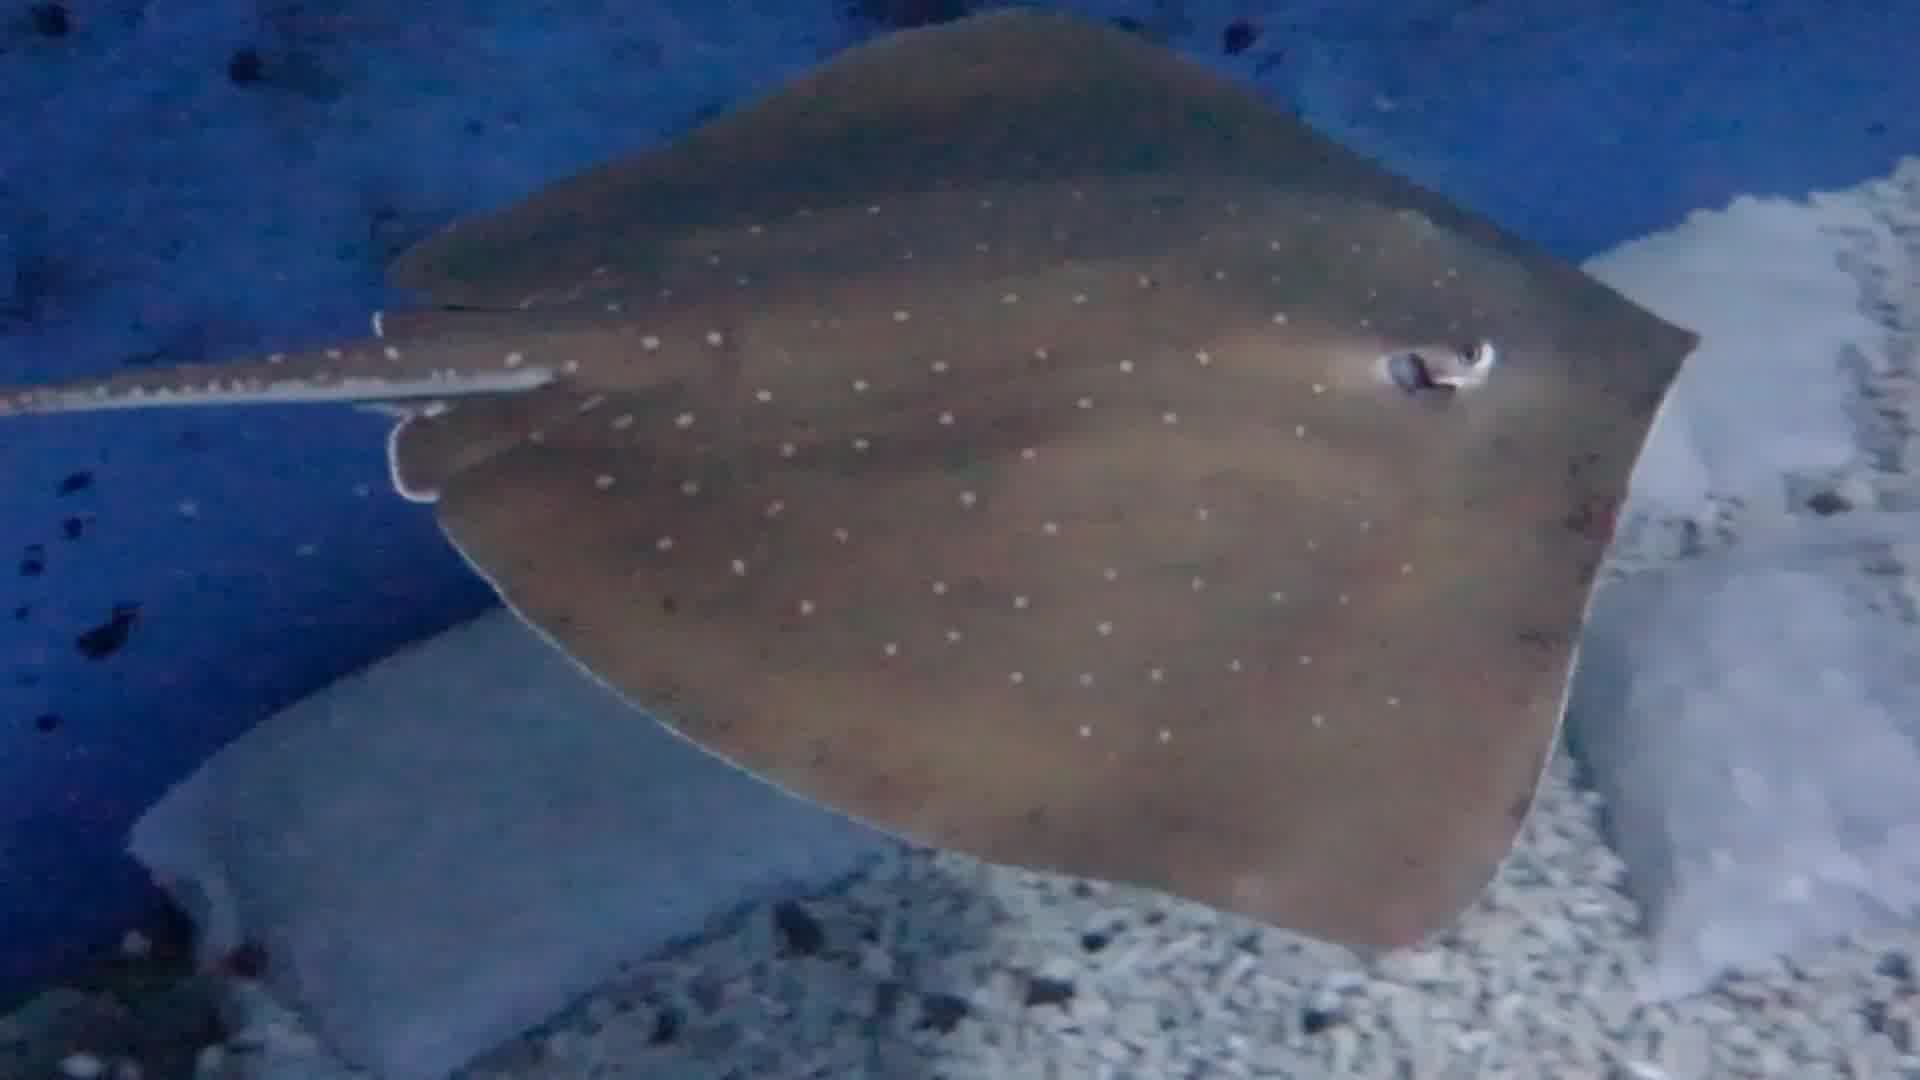Himantura gerrardi: (18, 7, 1745, 1027)
